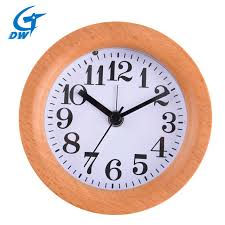alarm_clock: (18, 17, 208, 214)
